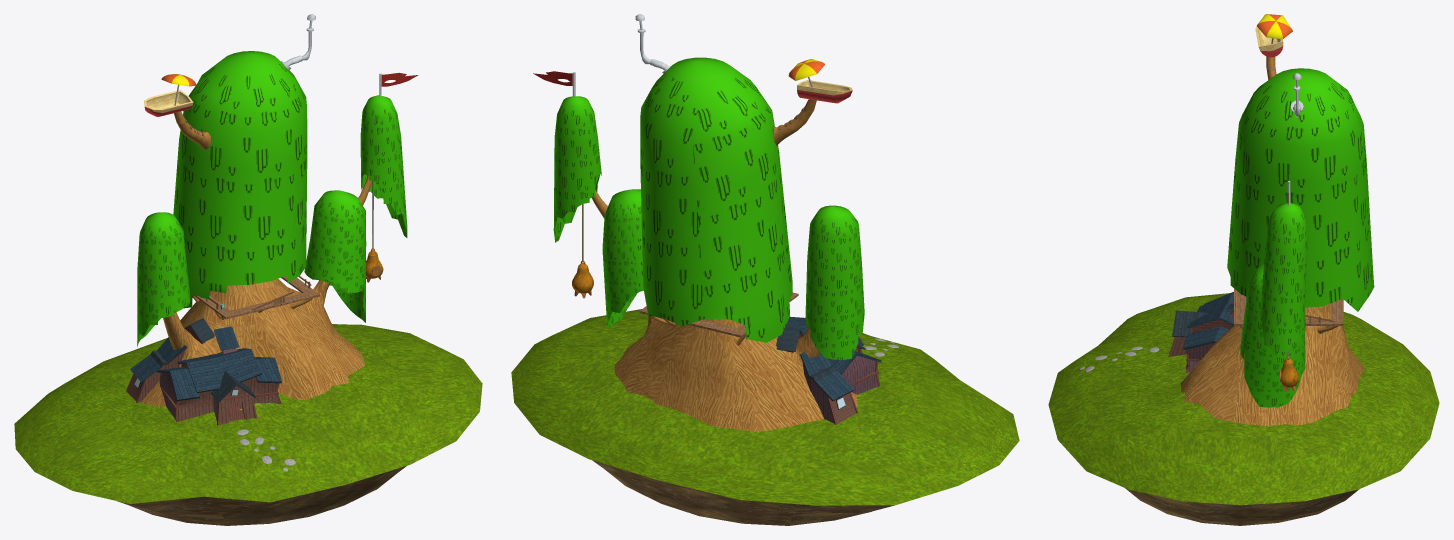
File: Finhousesketchfab.fbx
The picture shows the model from 3 angles, left to right: view 1: azimuth 30°, elevation 25°; view 2: azimuth 150°, elevation 25°; view 3: azimuth 270°, elevation 25°; orthographic projection. The views are drawn at different scales.
Parts seen in each view (by area): view 1: land, Leaves, pCylinder5, pPlane3, Leaves2, Leaves1, Leaves3, pCube5, pCube6, pCylinder17, pCylinder6; view 2: land, Leaves, pCylinder5, Leaves1, Leaves3, Leaves2, pCube5, pPlane3, pCylinder17, pCylinder6, pCube6; view 3: land, Leaves, pCylinder5, Leaves3, Leaves2, pPlane3, pCube6, polySurface1, pCylinder17, Lantern.
Part boxes in pixels (<box>): land: <box>14,324,482,525</box>; Leaves: <box>173,51,307,308</box>; pCylinder5: <box>141,279,365,406</box>; pPlane3: <box>157,348,281,424</box>; Leaves2: <box>304,190,366,322</box>; Leaves1: <box>137,212,190,346</box>; Leaves3: <box>360,95,407,237</box>; pCube5: <box>126,337,186,401</box>; pCube6: <box>193,275,319,319</box>; pCylinder17: <box>144,90,193,116</box>; pCylinder6: <box>174,111,211,149</box>; land: <box>511,309,1019,525</box>; Leaves: <box>640,57,792,342</box>; pCylinder5: <box>614,315,857,431</box>; Leaves1: <box>805,205,864,359</box>; Leaves3: <box>553,96,601,242</box>; Leaves2: <box>602,189,643,327</box>; pCube5: <box>800,352,856,424</box>; pPlane3: <box>789,316,881,394</box>; pCylinder17: <box>797,80,852,103</box>; pCylinder6: <box>773,99,816,145</box>; pCube6: <box>639,292,798,337</box>; land: <box>1048,293,1439,525</box>; Leaves: <box>1227,68,1374,311</box>; pCylinder5: <box>1181,303,1364,425</box>; Leaves3: <box>1260,203,1307,362</box>; Leaves2: <box>1240,263,1305,407</box>; pPlane3: <box>1171,292,1246,372</box>; pCube6: <box>1234,288,1343,325</box>; polySurface1: <box>1257,14,1292,43</box>; pCylinder17: <box>1255,26,1283,57</box>; Lantern: <box>1280,356,1298,391</box>.
Size of the model in its own units: 1744 by 1746 by 1326.
